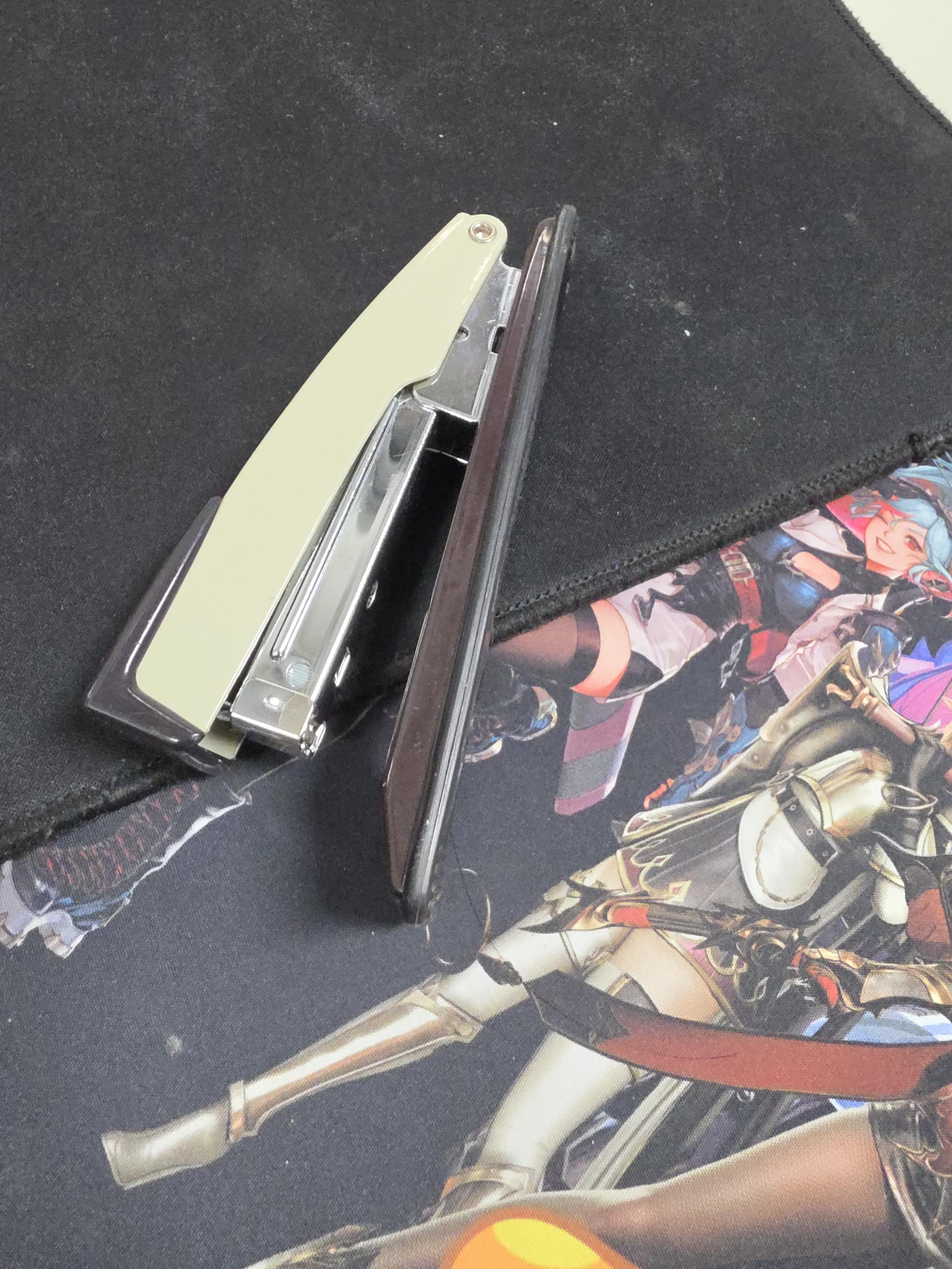stapler: (85, 205, 578, 927)
